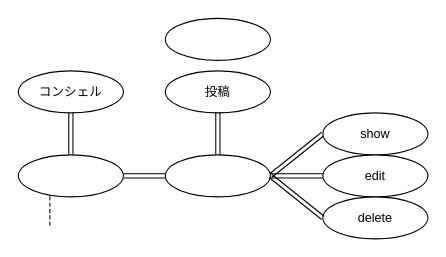
Image size: 446x257. Some labels were removed from this diagram. The shapes that lost their labels are listed below. From the top down, each one's box as (x1, y1, x2, y2) in pixels, then its label:
(164, 17, 270, 60): ranking
(17, 154, 123, 197): TOP
(164, 154, 270, 197): user
